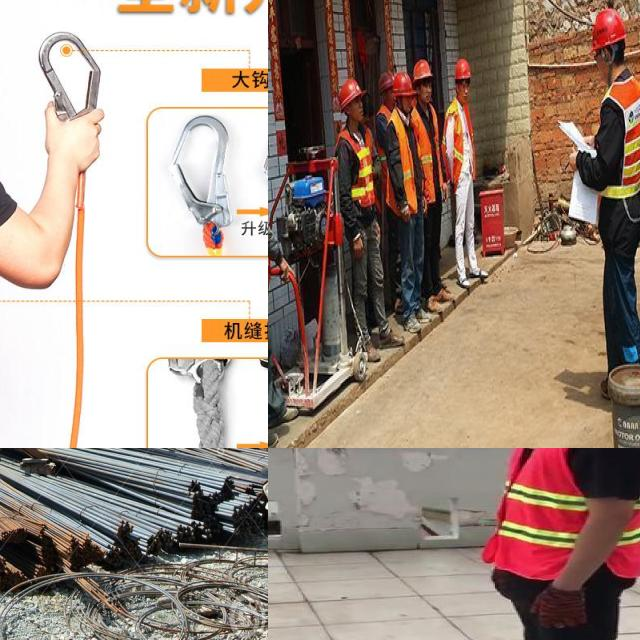hand_noglove: (567, 142, 581, 178), (348, 230, 364, 260), (580, 128, 597, 156), (401, 197, 412, 225)
head_helmet: (587, 9, 626, 52), (336, 75, 367, 106), (413, 58, 435, 82), (391, 68, 413, 92), (452, 58, 472, 82), (375, 69, 393, 89)
person: (465, 448, 640, 640), (587, 10, 640, 366), (337, 79, 375, 360), (389, 69, 423, 326), (444, 56, 481, 280), (414, 61, 446, 295), (373, 66, 390, 193)
shoes: (376, 328, 408, 355), (356, 336, 380, 365), (466, 262, 489, 286), (412, 305, 437, 326), (403, 311, 422, 336), (454, 272, 473, 294), (268, 422, 282, 448), (258, 454, 268, 482)
vest: (489, 448, 640, 581), (599, 77, 640, 204), (386, 107, 422, 215), (338, 120, 376, 217), (445, 97, 473, 197), (414, 103, 442, 203), (376, 100, 392, 174)
